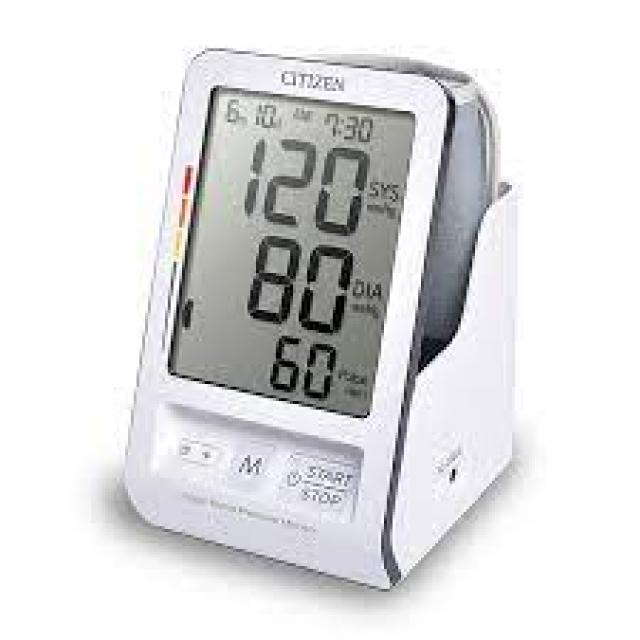dia: (232, 225, 364, 344)
pul: (251, 328, 346, 407)
ssd: (165, 82, 417, 418)
sys: (227, 117, 380, 246)
